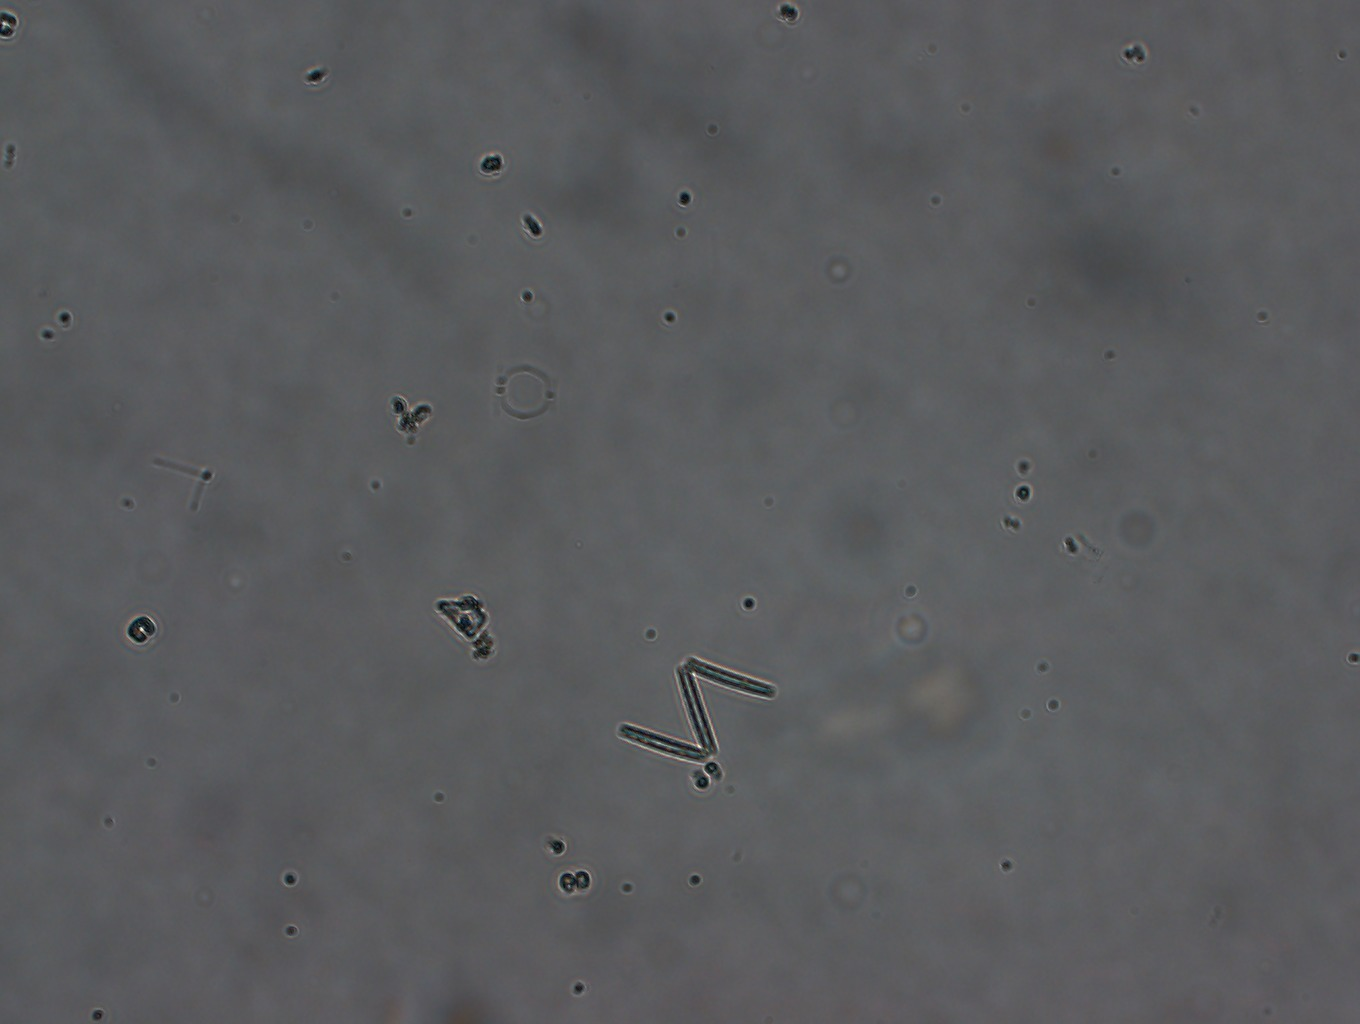thalassionema nitzschioides: (617, 645, 784, 765)
